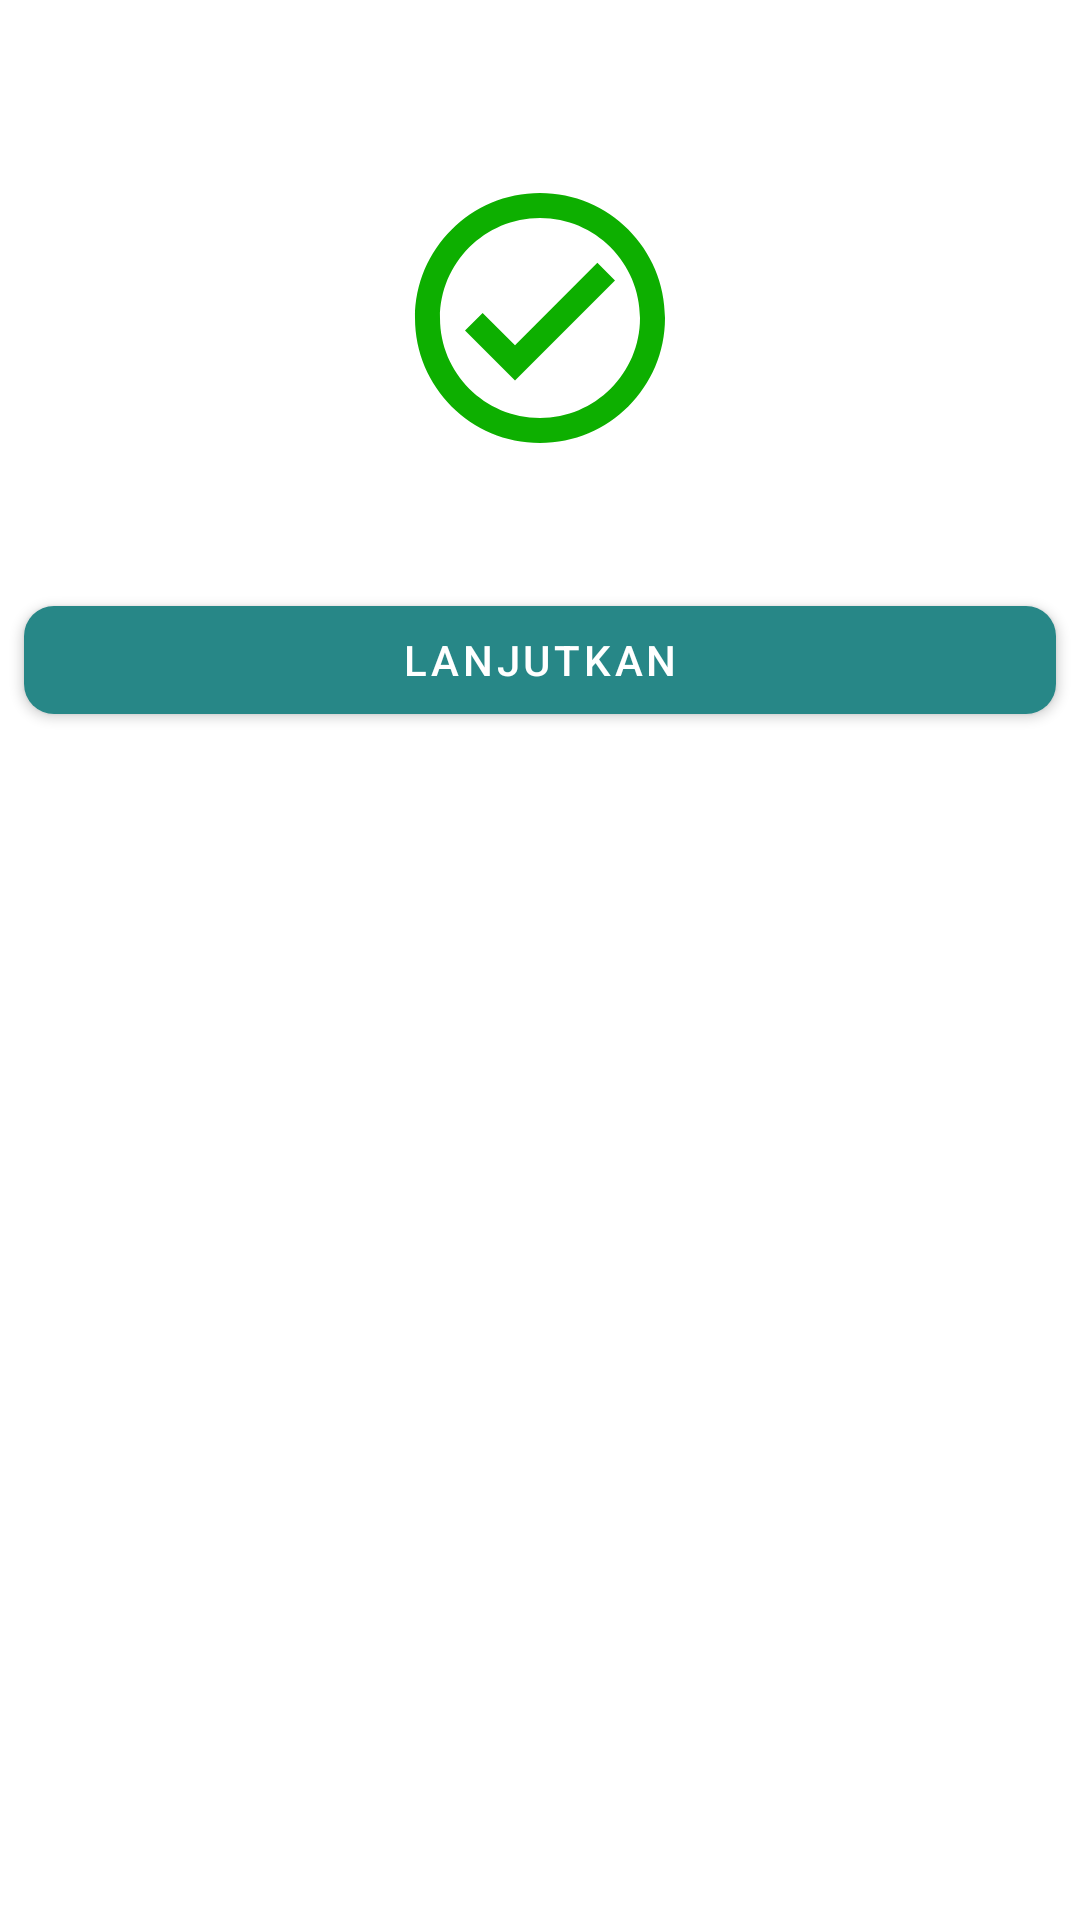

Named icons in this screenshot (1080x1920) and their bounding boxes, (x1, y1, x2, y2):
check: (415, 193, 665, 443)
